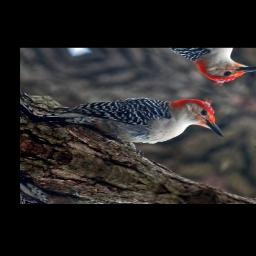Woodpecker: (33, 55, 240, 177)
